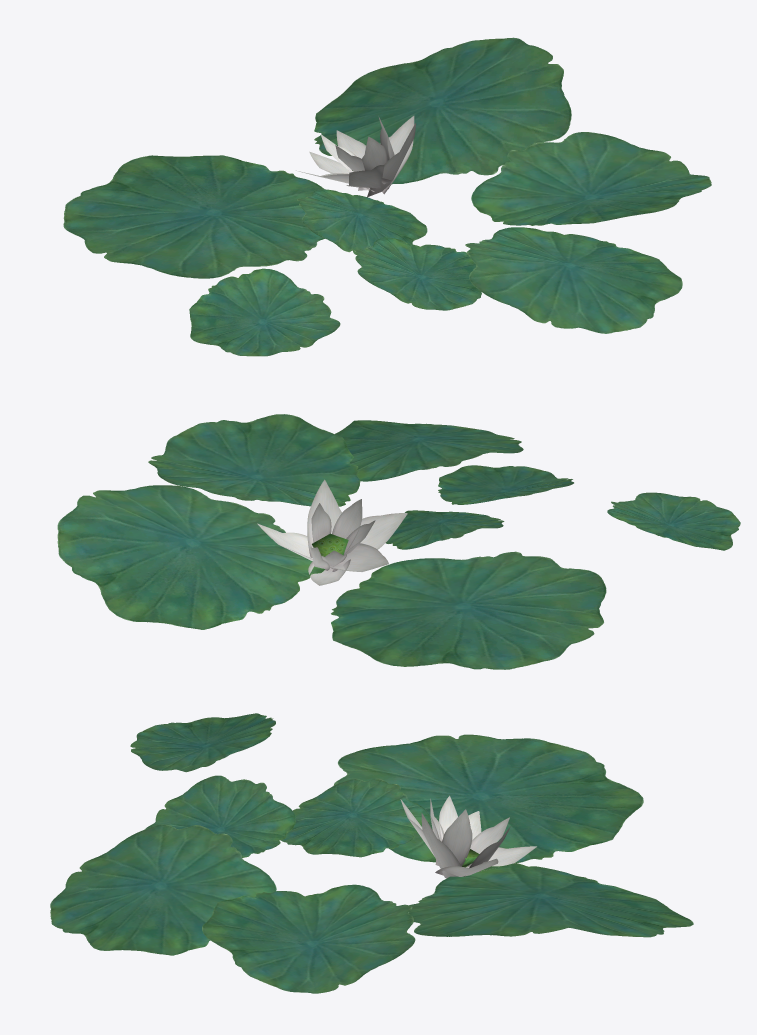
Rendered from hehua_yunmeng_03.FBX.
The picture shows the model from 3 angles, top to bottom: view 1: azimuth 30°, elevation 25°; view 2: azimuth 150°, elevation 25°; view 3: azimuth 270°, elevation 25°; orthographic projection. The views are drawn at different scales.
Visible parts, largest first — view 1: Mesh_0020; view 2: Mesh_0020; view 3: Mesh_0020.
Boxes of the visible parts, x1,y1,x2,y2 form: Mesh_0020: (63,37,711,356); Mesh_0020: (57,414,740,669); Mesh_0020: (50,713,693,993).
Bounding box in the file's own units: 376 × 51.67 × 359.
